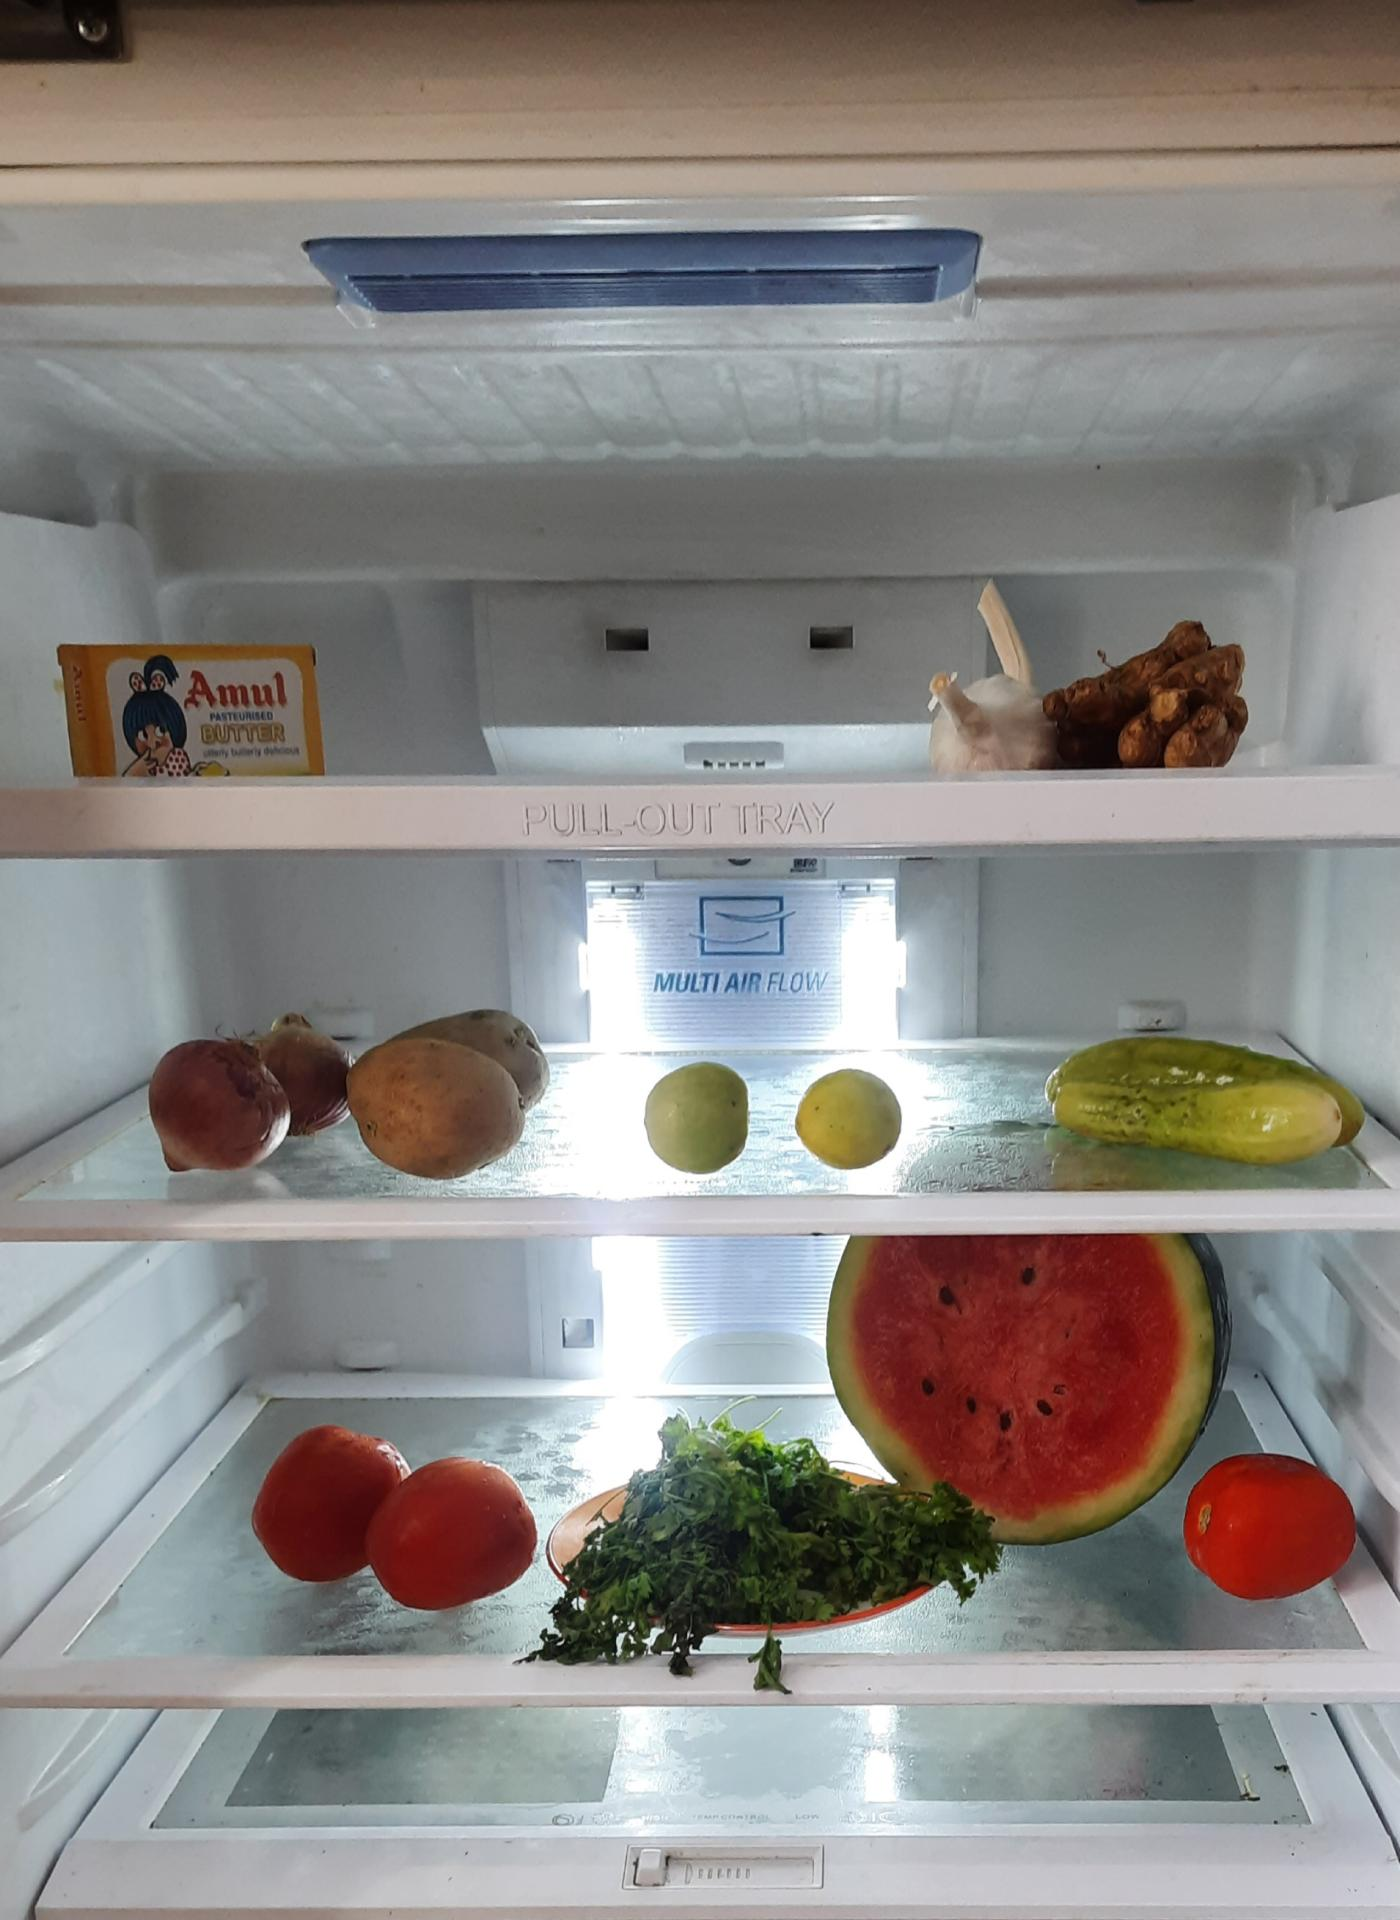butter: (55, 635, 331, 783)
carrots: (932, 613, 1257, 783), (258, 1015, 538, 1190)
coriander: (559, 1421, 993, 1677)
cucumber: (1038, 1035, 1376, 1170)
lemon: (643, 1048, 754, 1166), (795, 1057, 911, 1169)
onion: (155, 1009, 350, 1170)
tomato: (250, 1412, 529, 1600), (1185, 1447, 1361, 1607)
watermelon: (823, 1227, 1215, 1529)
